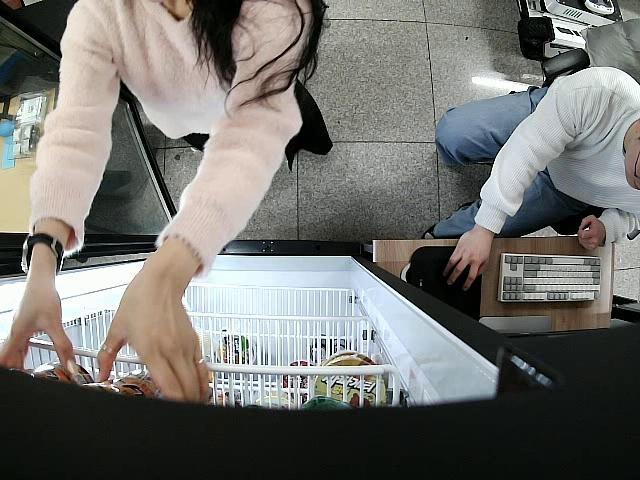06_nuguri_S: (7, 356, 96, 388), (94, 374, 166, 404)
